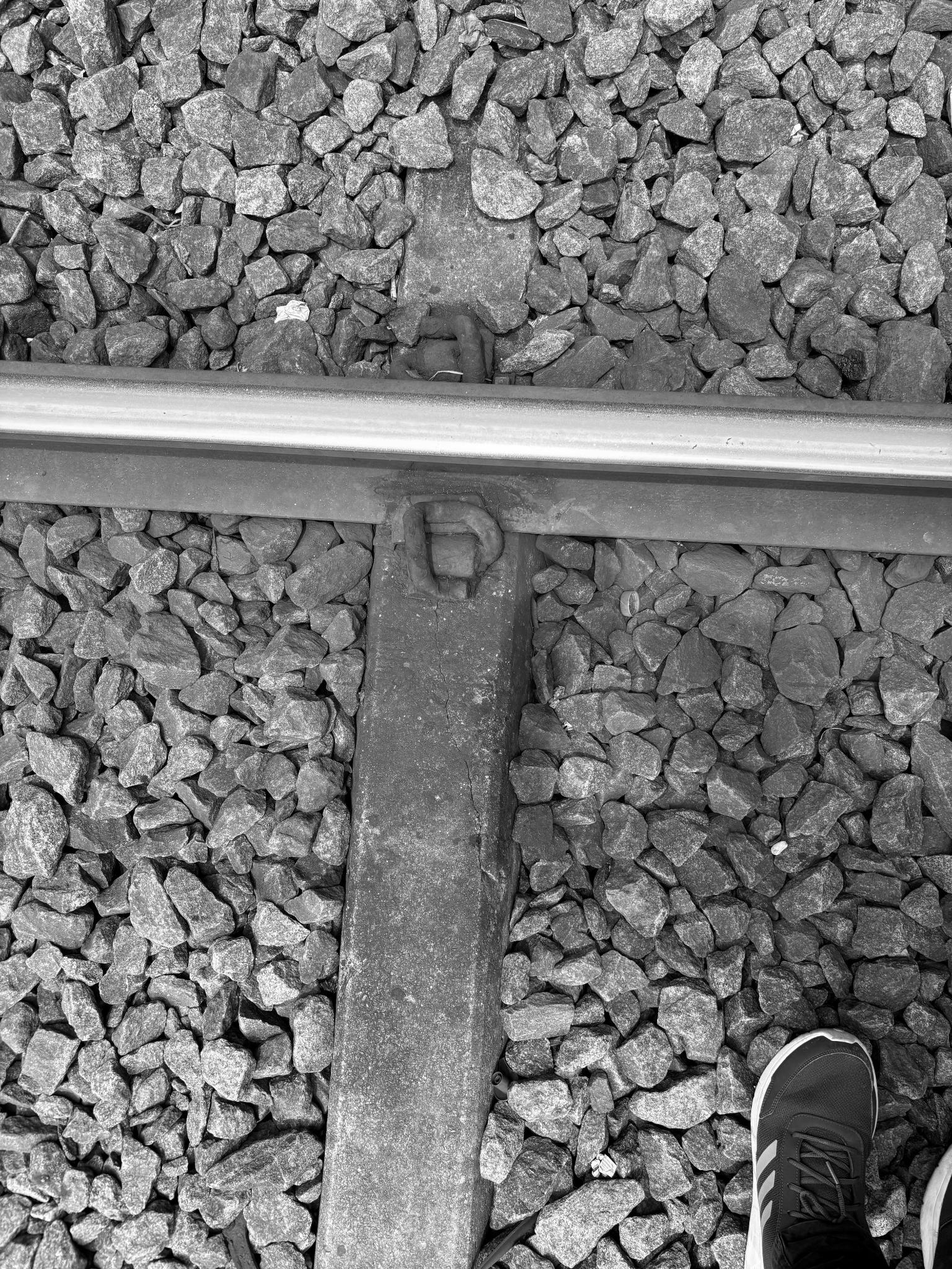cracks under rail seat: (410, 589, 530, 1009)
